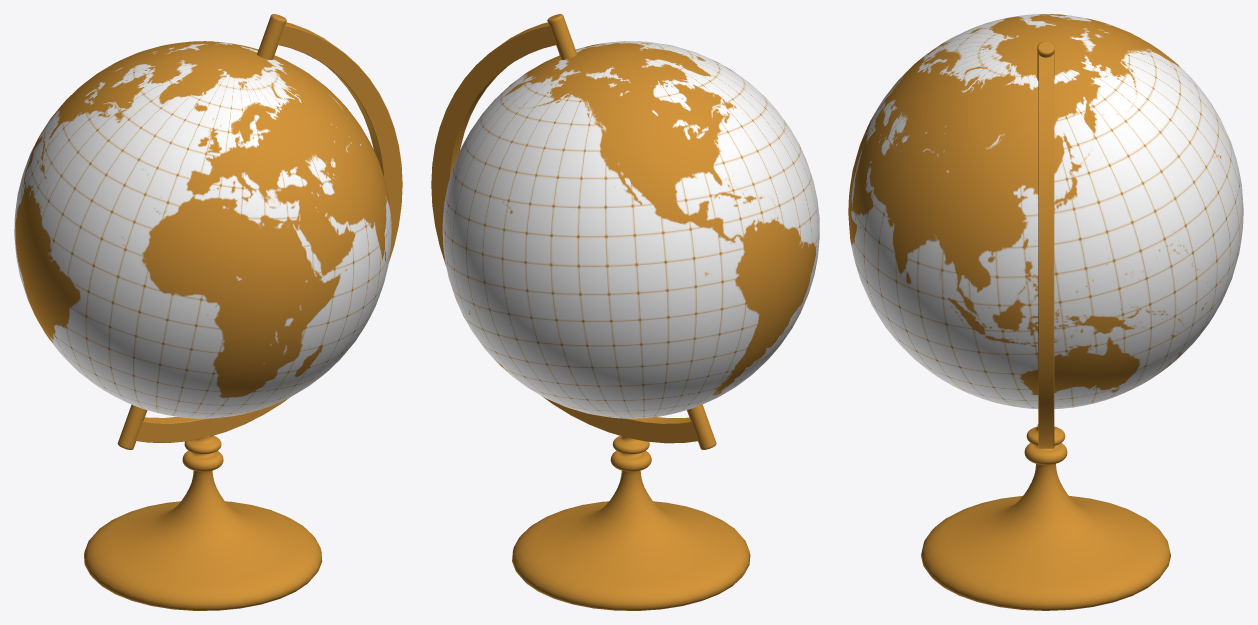
Rendered from golden_globe_decoration.glb.
The picture shows the model from 3 angles, left to right: view 1: azimuth 30°, elevation 25°; view 2: azimuth 150°, elevation 25°; view 3: azimuth 270°, elevation 25°; orthographic projection. The views are drawn at different scales.
Parts seen in each view (by area): view 1: Globe_2_0, Globe_2, Globe_3_3, Globe_1_1; view 2: Globe_2_0, Globe_2, Globe_3_3, Globe_1_1; view 3: Globe_2_0, Globe_2, Globe_3_3.
Boxes of the visible parts, <box> form: Globe_2_0: <box>14,41,391,418</box>; Globe_2: <box>84,435,322,610</box>; Globe_3_3: <box>136,22,402,442</box>; Globe_1_1: <box>117,14,286,449</box>; Globe_2_0: <box>442,41,819,418</box>; Globe_2: <box>512,436,750,610</box>; Globe_3_3: <box>431,22,698,443</box>; Globe_1_1: <box>547,14,716,449</box>; Globe_2_0: <box>848,14,1243,409</box>; Globe_2: <box>921,424,1170,610</box>; Globe_3_3: <box>1038,54,1054,448</box>.
Size of the model in its own units: 2.2 by 3.12 by 2.
Materials: 1 (1 with a texture image).
